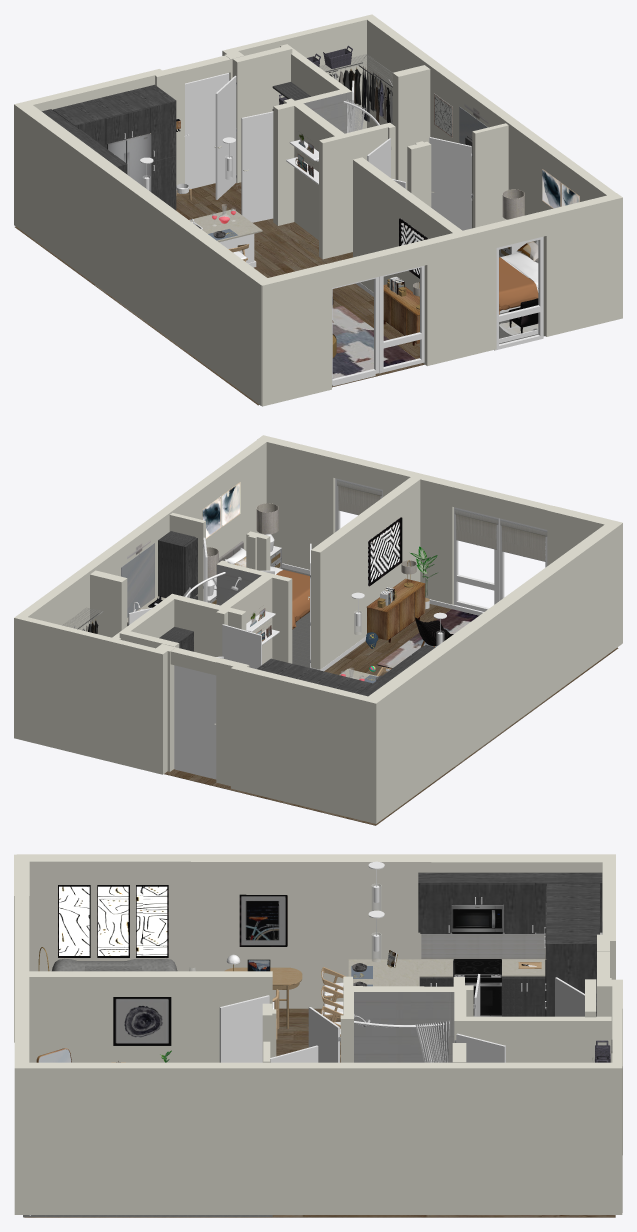
Rendered from Project Name.glb.
3 views of the same model, one above another, from view 1: azimuth 30°, elevation 25°; view 2: azimuth 150°, elevation 25°; view 3: azimuth 270°, elevation 25° (orthographic). The views are drawn at different scales.
Visible parts, largest first — view 1: Buffer Object (×21); view 2: Buffer Object (×17); view 3: Buffer Object (×22).
Part boxes in pixels (x1,y1,x2,y2): Buffer Object (×21): (14,14,622,406); Buffer Object (×17): (14,435,622,825); Buffer Object (×22): (14,854,622,1217).
Size of the model in its own units: 1.02 by 0.5288 by 1.23.
Materials: 132 (111 with a texture image).
